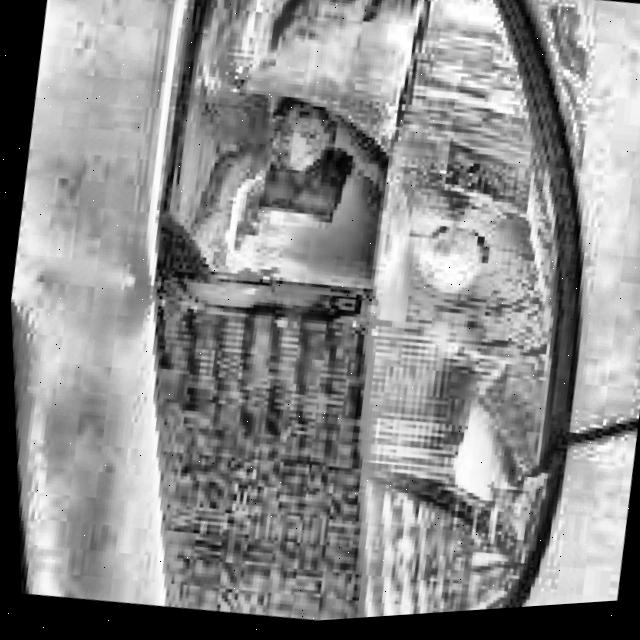tail_lamp: (145, 63, 410, 342)
